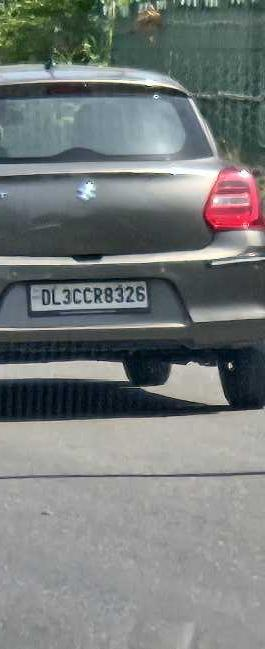License plate: (30, 280, 148, 311)
